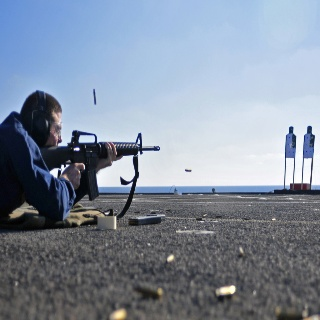rifle: (37, 129, 161, 201)
